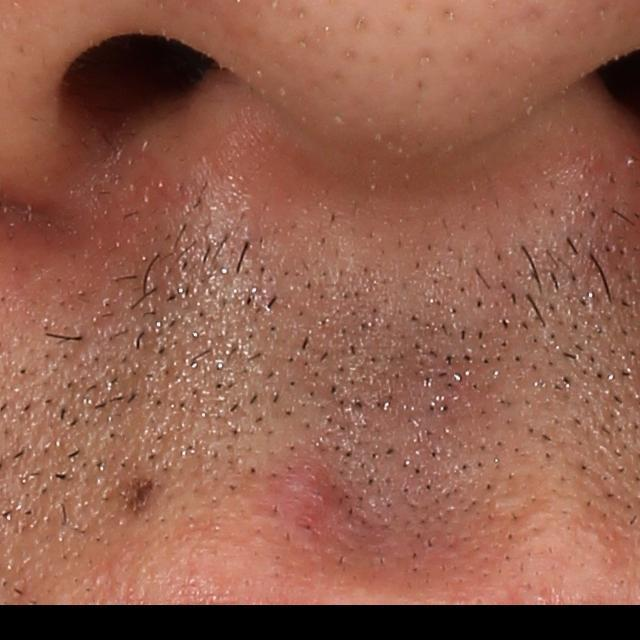nevus: (121, 468, 158, 516)
papule: (276, 457, 346, 529)
